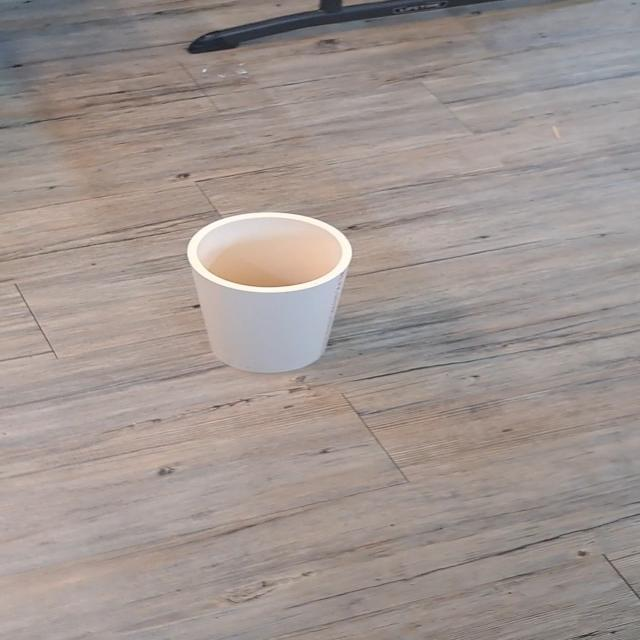CORAL: (172, 200, 378, 378)
